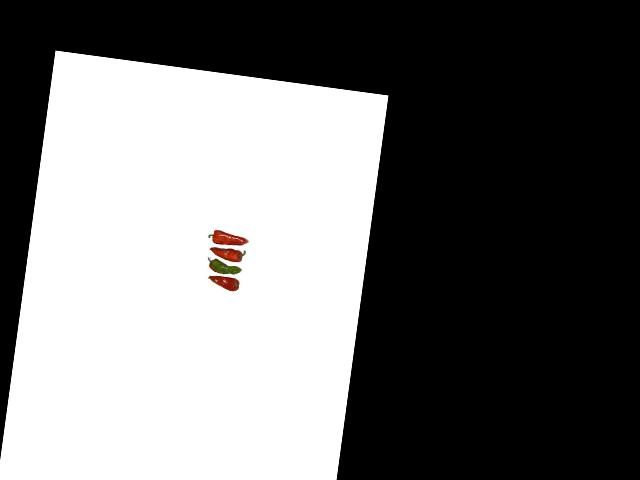bell_pepper: (203, 273, 241, 295)
